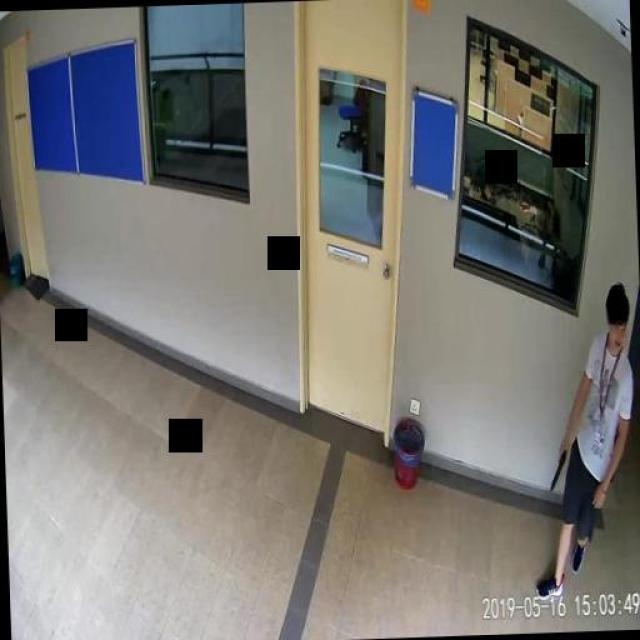gun: (546, 438, 566, 488)
